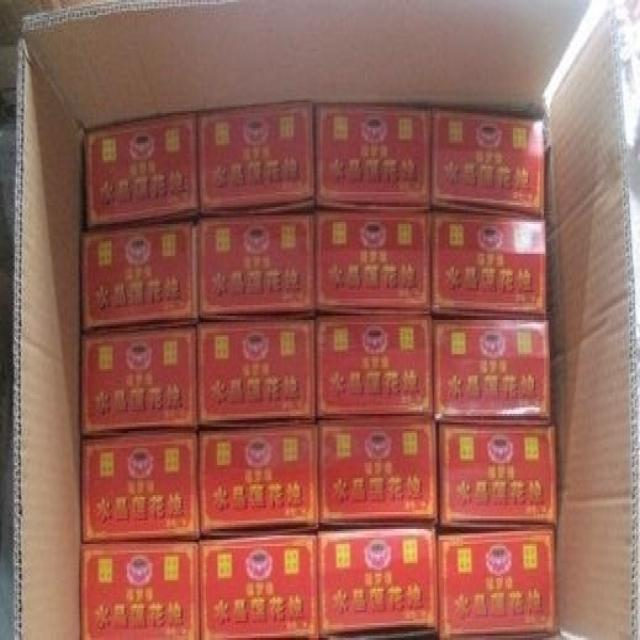box: (436, 525, 558, 638), (196, 211, 319, 320), (195, 102, 315, 212), (197, 316, 318, 424), (84, 431, 200, 543), (429, 108, 544, 220), (199, 423, 318, 531), (435, 421, 555, 528), (84, 219, 197, 332), (313, 102, 432, 208), (431, 314, 548, 421), (314, 314, 433, 419), (85, 118, 199, 227), (316, 530, 438, 631), (317, 421, 436, 524), (81, 327, 197, 430), (199, 532, 317, 633), (314, 211, 432, 311), (82, 539, 200, 637), (433, 213, 546, 314)
